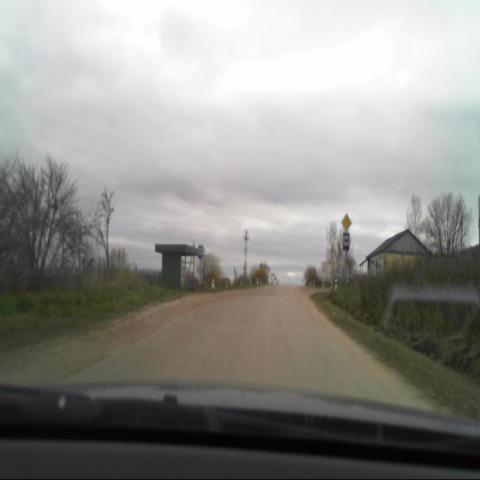2_1: (341, 214, 352, 231)
5_16: (342, 233, 350, 252)
